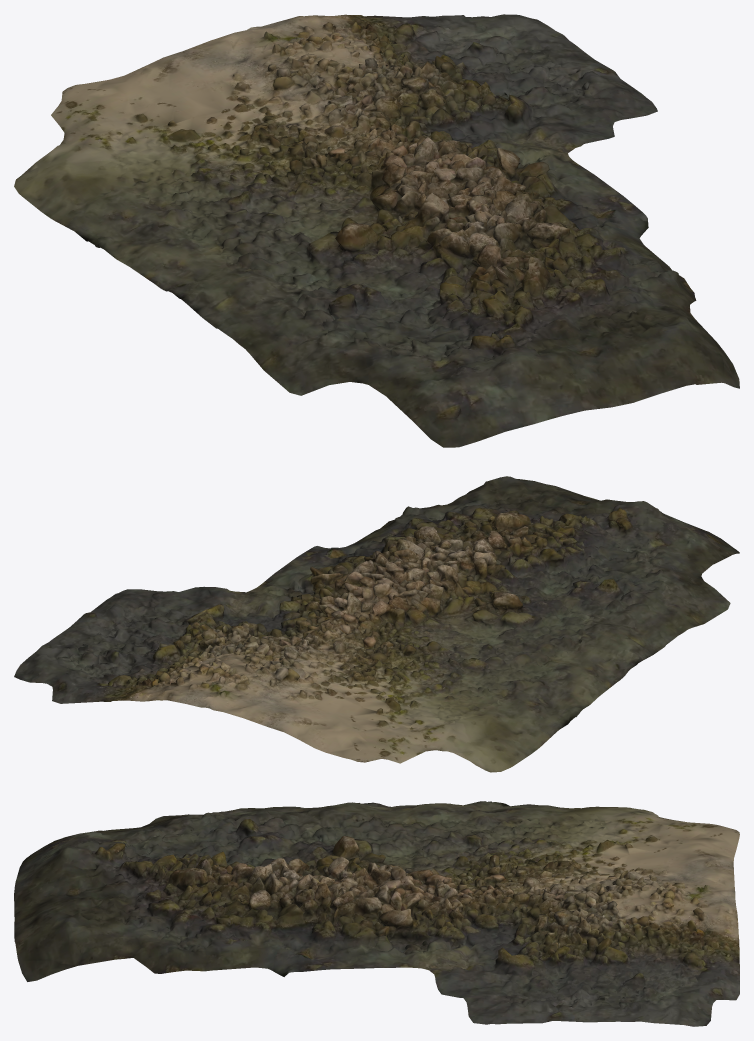
File: coast_rocks_03.glb
3 renders of one model, top to bottom at view 1: azimuth 30°, elevation 25°; view 2: azimuth 150°, elevation 25°; view 3: azimuth 270°, elevation 25°, orthographic. The views are drawn at different scales.
Parts seen in each view (by area): view 1: coast_rocks_03; view 2: coast_rocks_03; view 3: coast_rocks_03.
Part boxes in pixels (left/top/right/bottom): coast_rocks_03: left=14, top=14, right=739, bottom=447; coast_rocks_03: left=14, top=476, right=739, bottom=772; coast_rocks_03: left=14, top=801, right=739, bottom=1026.
Bounding box in the file's own units: 21.12 × 3.2 × 28.27.
1 material, 1 textured.
